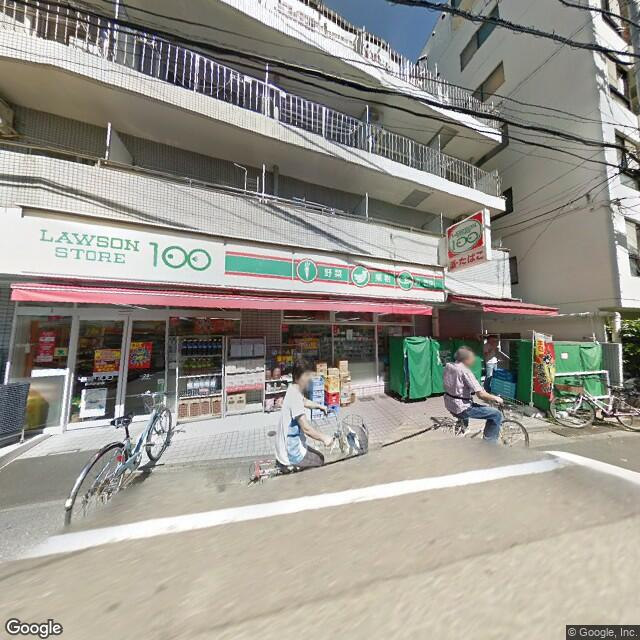lawson: (30, 217, 446, 300), (444, 217, 481, 251)
